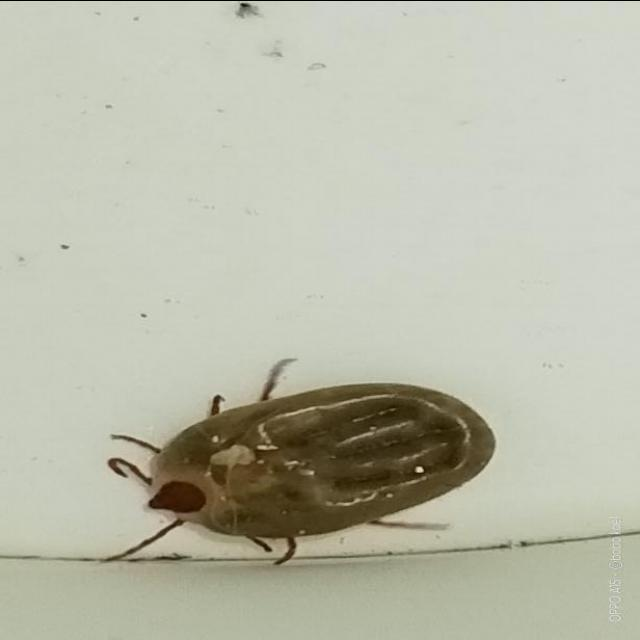Rhipicephalus Sanguineus-F-Fed: (104, 358, 499, 564)
